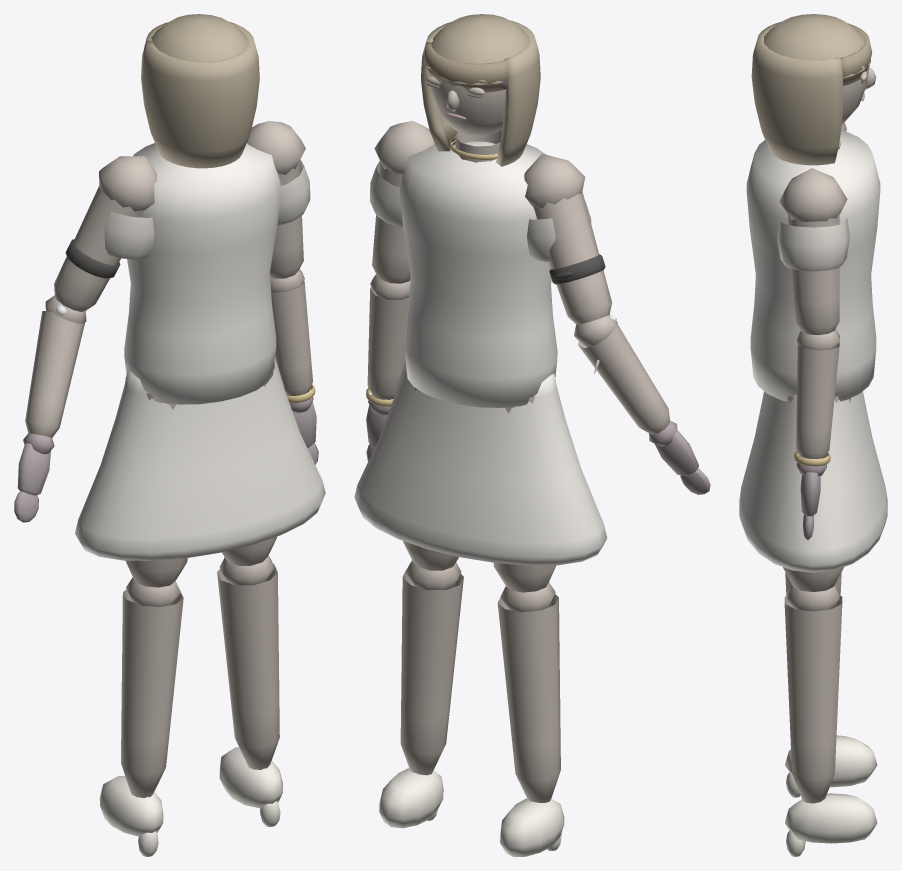
Rendered from crystal.glb.
3 renders of one model, left to right at view 1: azimuth 30°, elevation 25°; view 2: azimuth 150°, elevation 25°; view 3: azimuth 270°, elevation 25°, orthographic.
Parts seen in each view (by area): view 1: skirt, torso, hair_length, shin_l, shin_r, forearm_l, upperarm_l, forearm_r, hair_crown, shoe_l, shoe_r, deltoid_l (+12 smaller); view 2: skirt, torso, shin_l, shin_r, hair_length, upperarm_l, forearm_l, hair_crown, forearm_r, shoe_r, shoe_l, skull (+15 smaller); view 3: torso, skirt, shin_r, hair_length, forearm_r, shoe_r, hair_crown, upperarm_r, sleeve_r, deltoid_r, shoe_l, thigh_r (+7 smaller).
Part boxes in pixels (x1,y1,x2,y2): skirt: (75,356,325,560); torso: (124,143,280,404); hair_length: (141,22,259,168); shin_l: (121,589,183,797); shin_r: (217,564,279,769); forearm_l: (25,311,84,437); upperarm_l: (54,185,143,311); forearm_r: (271,280,312,395); hair_crown: (151,14,247,61); shoe_l: (99,776,163,836); shoe_r: (219,747,282,808); deltoid_l: (99,156,157,211); skirt: (354,360,607,565); torso: (399,141,557,407); shin_l: (497,594,560,802); shin_r: (400,568,463,775); hair_length: (421,20,540,166); upperarm_l: (534,191,611,324); forearm_l: (578,324,669,434); hair_crown: (425,14,528,84); forearm_r: (367,286,409,399); shoe_r: (379,768,443,828); shoe_l: (500,798,564,856); skull: (430,82,505,135); torso: (746,130,880,401); skirt: (739,391,887,572); shin_r: (784,596,842,803); hair_length: (751,21,843,165); forearm_r: (796,342,839,458); shoe_r: (785,793,877,843); hair_crown: (764,14,870,78); upperarm_r: (788,213,839,335); sleeve_r: (777,219,849,271); deltoid_r: (779,168,847,221); shoe_l: (785,735,877,787); thigh_r: (776,396,850,591).
Size of the model in its own units: 0.6774 by 1.61 by 0.2687.
